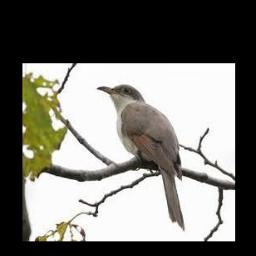Cuckoo: (96, 84, 185, 230)
